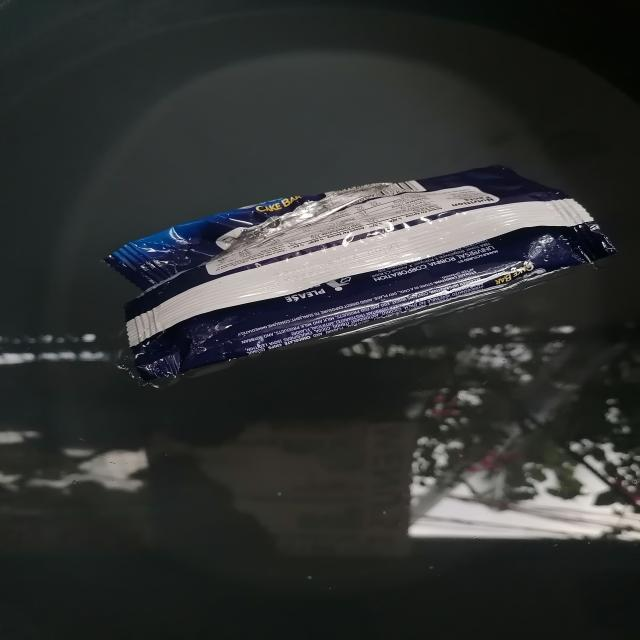Plastic Wrapper: (106, 166, 616, 382)
